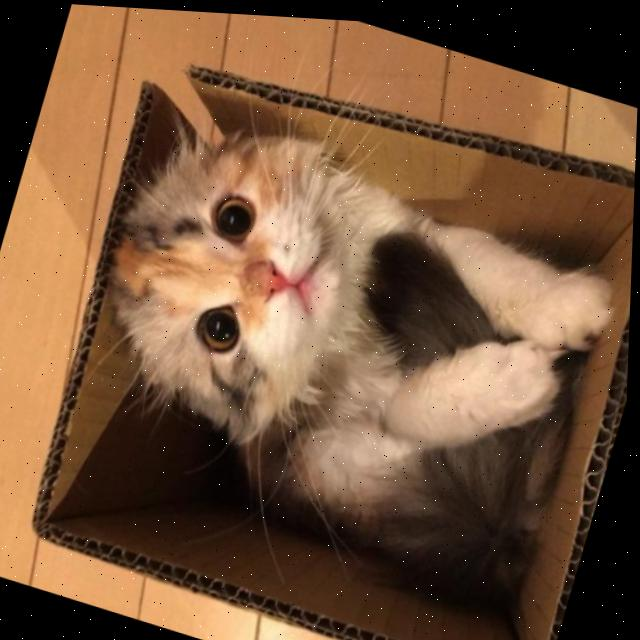Cats: (51, 76, 638, 621)
